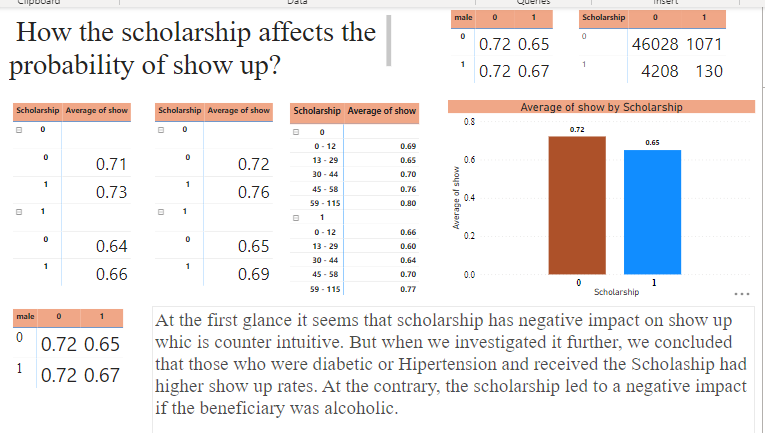

What the dashboard file says about the page in this screenshot:
{"tool":"powerbi","page":{"name":"Q2","canvas":[1280,720],"ordinal":1},"visuals":[{"type":"textbox","box":[10.1,8.4,651.8,120.9],"z":1000},{"type":"columnChart","fields":{"Y":["Avg(Medical_Appointment_No_Shows.show)"],"Category":["Medical_Appointment_No_Shows.Scholarship"]},"box":[752.5,156.2,515.7,336],"z":3000},{"type":"pivotTable","fields":{"Rows":["Medical_Appointment_No_Shows.Scholarship","Medical_Appointment_No_Shows.SMS_received"],"Values":["Avg(Medical_Appointment_No_Shows.show)"]},"box":[16.8,156.2,210,336],"z":4000},{"type":"pivotTable","fields":{"Rows":["Medical_Appointment_No_Shows.Scholarship","Medical_Appointment_No_Shows.Diabetes"],"Values":["Avg(Medical_Appointment_No_Shows.show)"]},"box":[255.3,156.2,210,336],"z":5000},{"type":"pivotTable","fields":{"Rows":["Medical_Appointment_No_Shows.Scholarship","Medical_Appointment_No_Shows.Age_categoties"],"Values":["Avg(Medical_Appointment_No_Shows.show)"]},"box":[482.1,156.2,243.6,336],"z":6000},{"type":"pivotTable","fields":{"Rows":["Medical_Appointment_No_Shows.male"],"Values":["Avg(Medical_Appointment_No_Shows.show)"],"Columns":["Medical_Appointment_No_Shows.Scholarship"]},"box":[16.8,502.3,210,218.4],"z":7000},{"type":"textbox","box":[255.3,502.3,1012.9,218.4],"z":8000},{"type":"pivotTable","fields":{"Rows":["Medical_Appointment_No_Shows.male"],"Columns":["Medical_Appointment_No_Shows.Scholarship"],"Values":["Avg(Medical_Appointment_No_Shows.show)"]},"box":[752.5,0,215,149.5],"z":8001},{"type":"pivotTable","fields":{"Rows":["Medical_Appointment_No_Shows.Scholarship"],"Columns":["Medical_Appointment_No_Shows.Alcoholism"],"Values":["Sum(Medical_Appointment_No_Shows.show)"]},"box":[968,0,301,150],"z":8002}]}

Visuals, with their boxes on the page's 1280x720 design canvas (x1, y1, x2, y2). These are canvas units, not pixel positions in the 765x433 screenshot, which may show the page scaled, cropped or inside an application window:
textbox: [left=10, top=8, right=662, bottom=129]
columnChart - Avg(Medical_Appointment_No_Shows.show) x Medical_Appointment_No_Shows.Scholarship: [left=752, top=156, right=1268, bottom=492]
pivotTable - Medical_Appointment_No_Shows.Scholarship x Medical_Appointment_No_Shows.SMS_received: [left=17, top=156, right=227, bottom=492]
pivotTable - Medical_Appointment_No_Shows.Scholarship x Medical_Appointment_No_Shows.Diabetes: [left=255, top=156, right=465, bottom=492]
pivotTable - Medical_Appointment_No_Shows.Scholarship x Medical_Appointment_No_Shows.Age_categoties: [left=482, top=156, right=726, bottom=492]
pivotTable - Medical_Appointment_No_Shows.male x Avg(Medical_Appointment_No_Shows.show): [left=17, top=502, right=227, bottom=721]
textbox: [left=255, top=502, right=1268, bottom=721]
pivotTable - Medical_Appointment_No_Shows.male x Medical_Appointment_No_Shows.Scholarship: [left=752, top=0, right=968, bottom=150]
pivotTable - Medical_Appointment_No_Shows.Scholarship x Medical_Appointment_No_Shows.Alcoholism: [left=968, top=0, right=1269, bottom=150]
